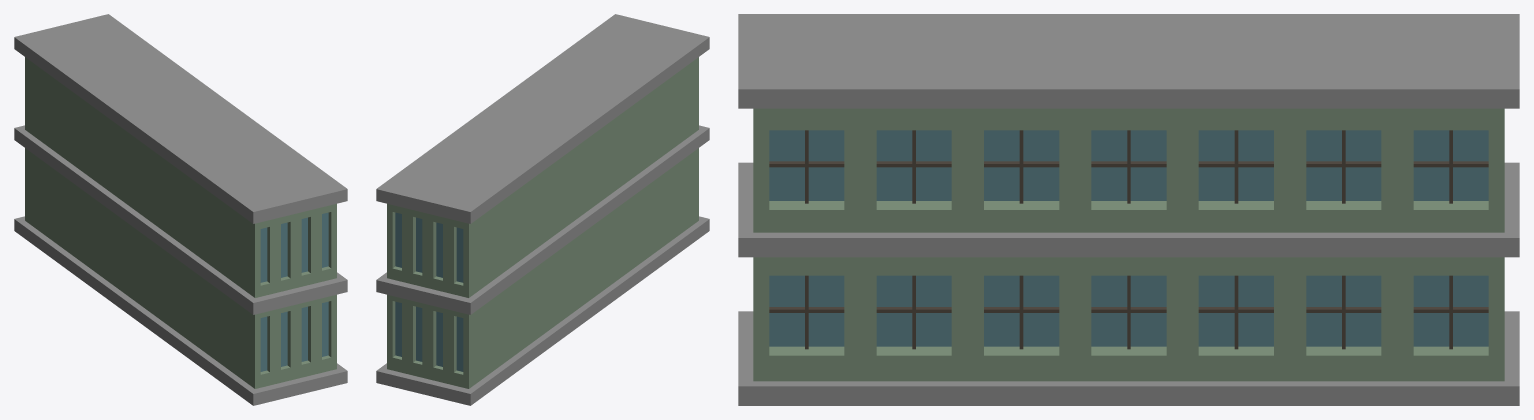
File: Apartment1.fbx
3 views of the same model, side by side, from view 1: azimuth 30°, elevation 25°; view 2: azimuth 150°, elevation 25°; view 3: azimuth 270°, elevation 25° (orthographic). The views are drawn at different scales.
Parts seen in each view (by area): view 1: Apartment1; view 2: Apartment1; view 3: Apartment1.
Boxes of the visible parts, box(x1,y1,x2,y2) form: Apartment1: box(14, 14, 347, 405); Apartment1: box(376, 14, 709, 405); Apartment1: box(738, 14, 1519, 405).
Size of the model in its own units: 231 by 453 by 1013.
